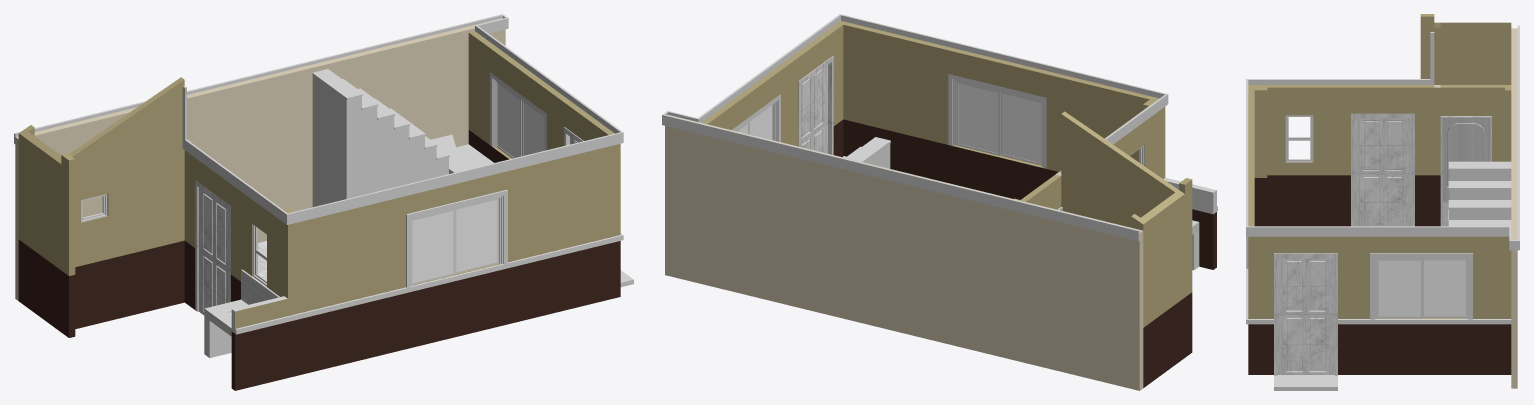
File: jasmine_1stfloor.glb
The picture shows the model from 3 angles, left to right: view 1: azimuth 30°, elevation 25°; view 2: azimuth 150°, elevation 25°; view 3: azimuth 270°, elevation 25°; orthographic projection. The views are drawn at different scales.
Parts seen in each view (by area): view 1: Cube.039; view 2: Cube.039; view 3: Cube.039.
Part boxes in pixels (x1,y1,x2,y2): Cube.039: (14,14,633,390); Cube.039: (662,14,1217,390); Cube.039: (1246,14,1519,390).
Size of the model in its own units: 7.48 by 3.32 by 4.02.
Materials: 13 (2 with a texture image).
